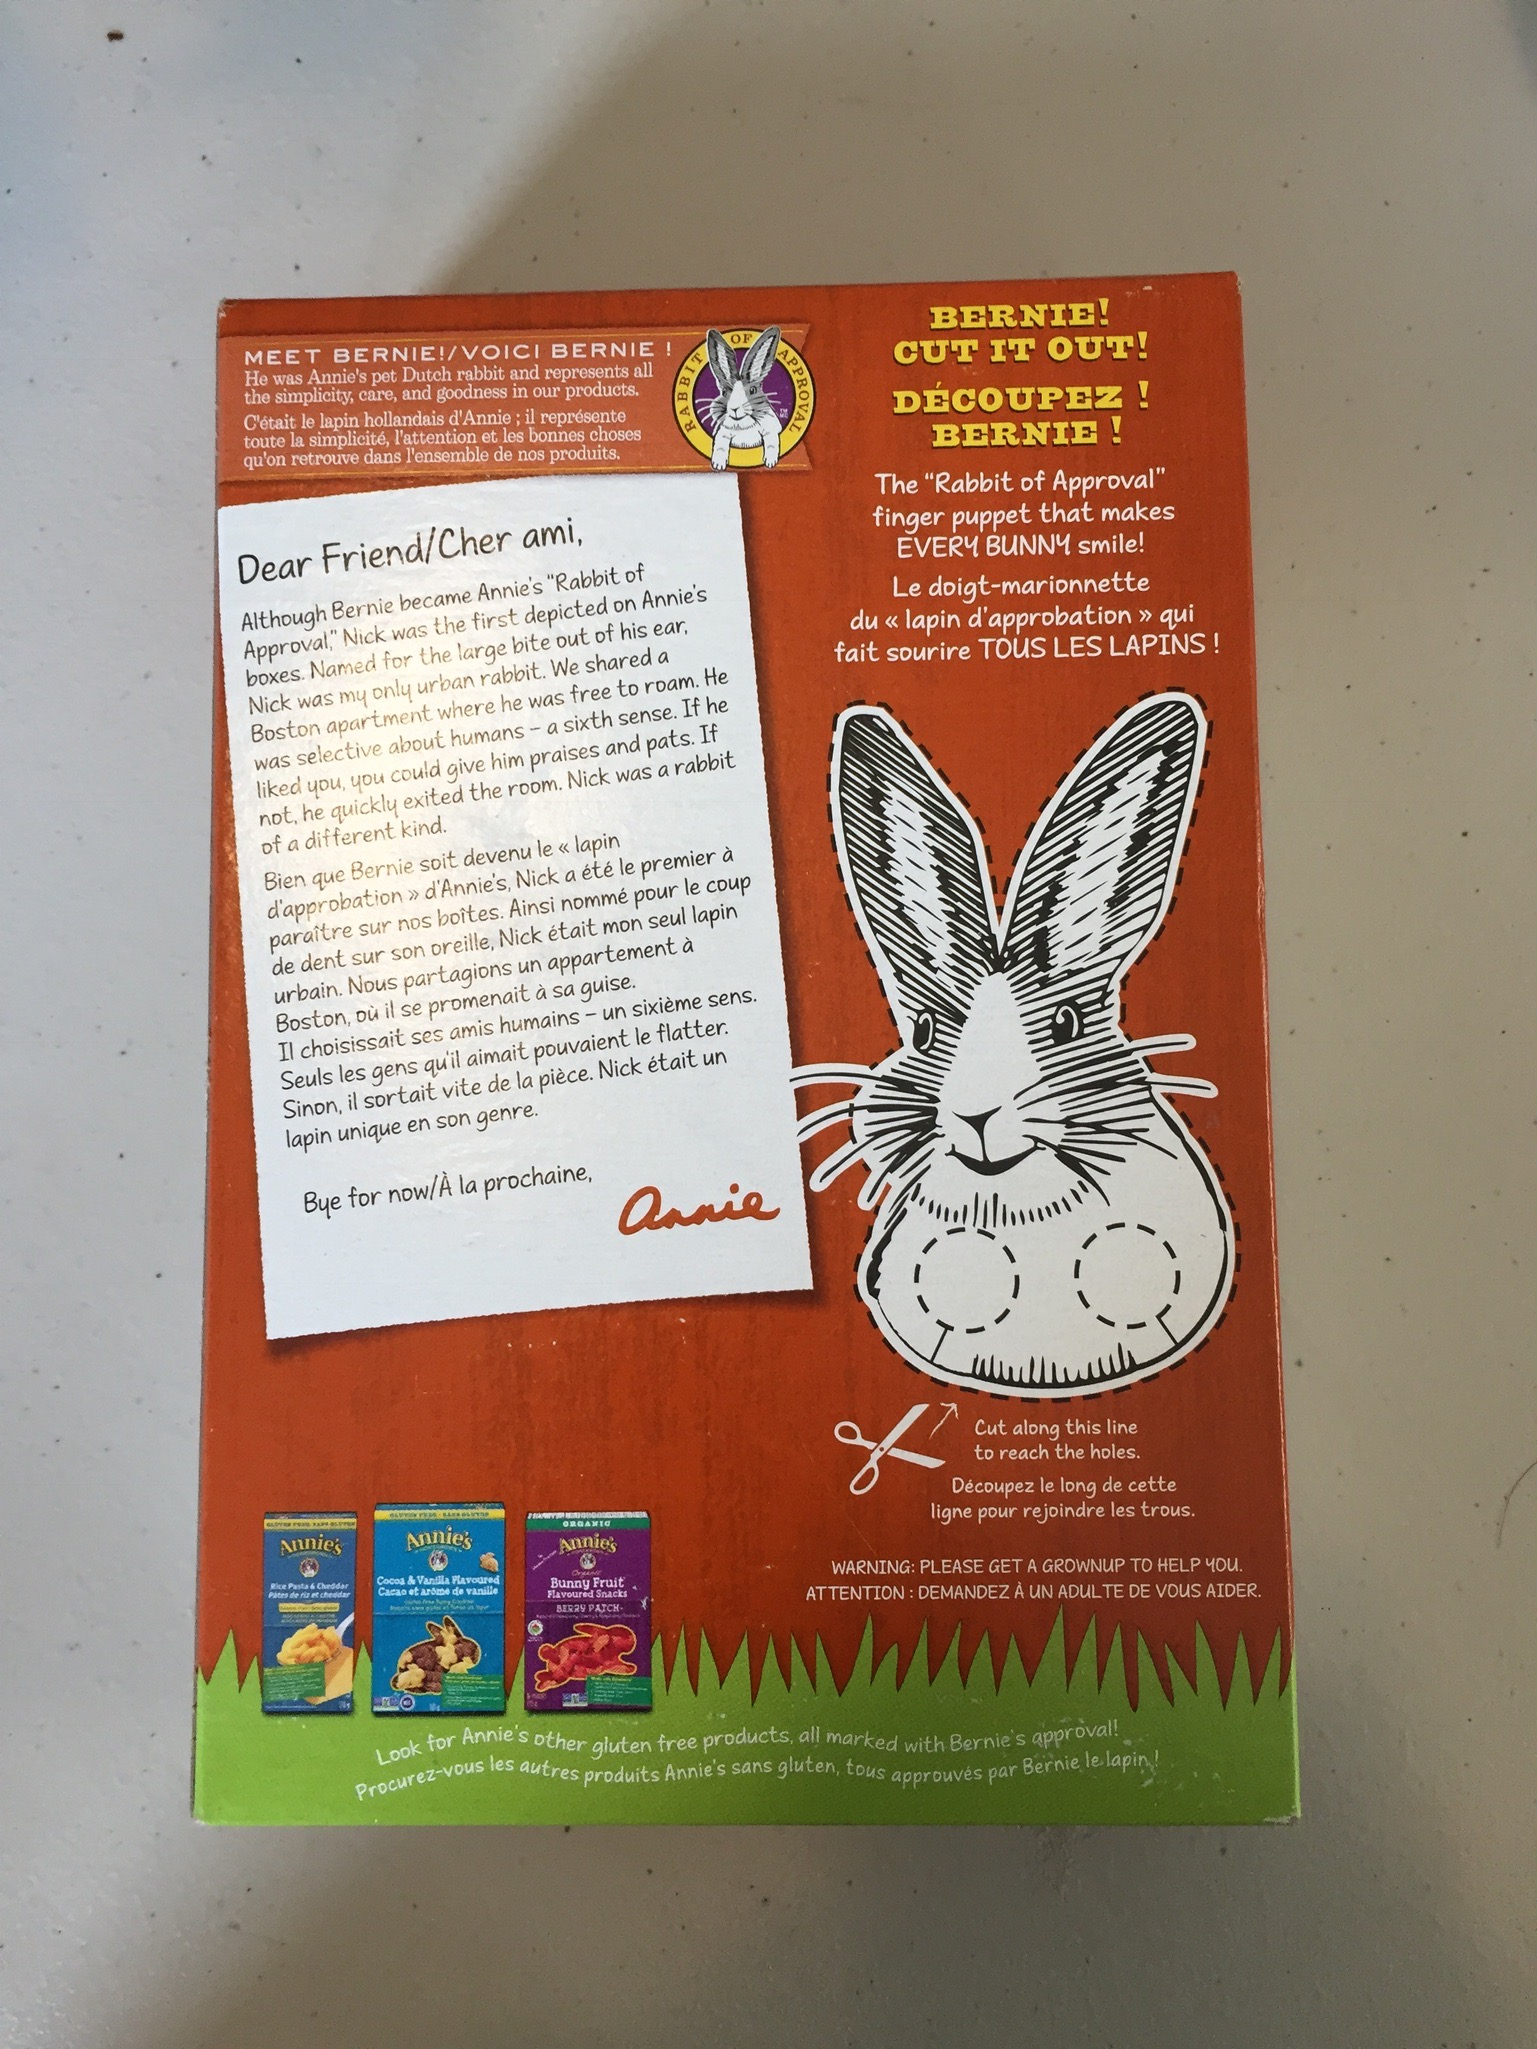annies_snickerdoodles_cinnamon_sugar: (226, 312, 1271, 1807)
